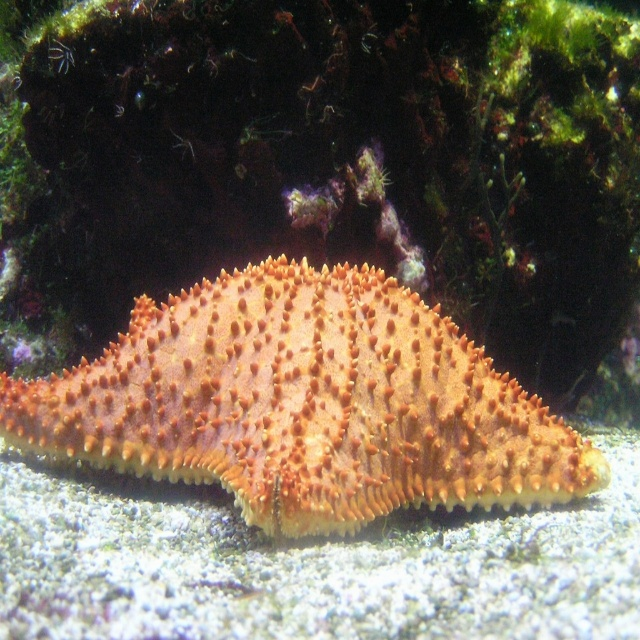Starfish: (0, 254, 611, 540)
